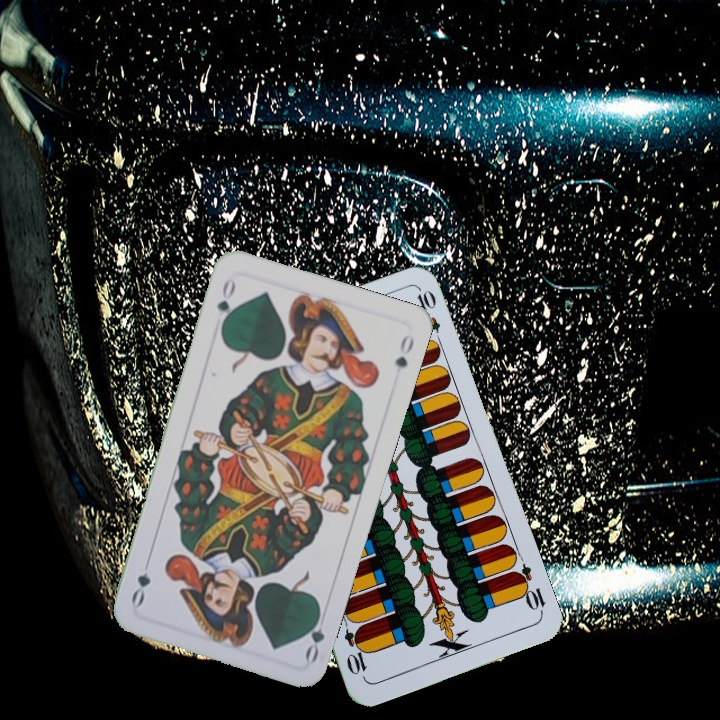E10: (509, 560, 548, 617)
GO: (300, 604, 328, 665), (212, 273, 239, 332)
